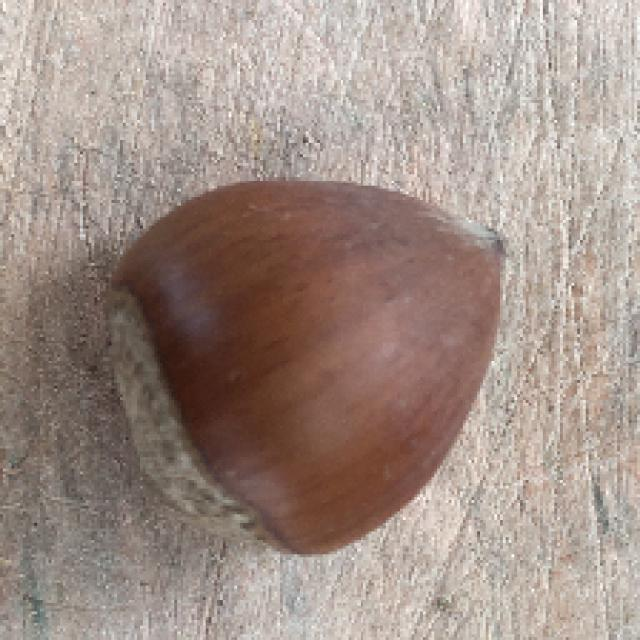damagedHazelnut: (97, 169, 522, 565)
